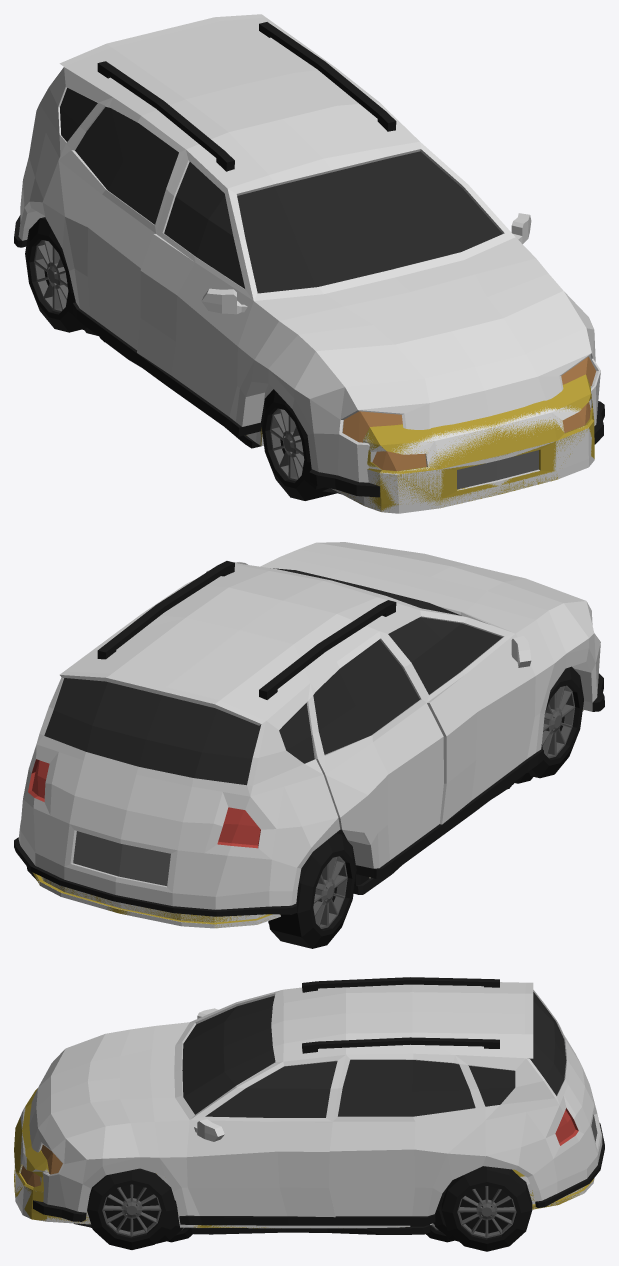
Rendered from quaternius.glb.
The picture shows the model from 3 angles, top to bottom: view 1: azimuth 30°, elevation 25°; view 2: azimuth 150°, elevation 25°; view 3: azimuth 270°, elevation 25°; orthographic projection. The views are drawn at different scales.
Parts seen in each view (by area): view 1: Body (×3), Wheel_FR, Wheel_RR; view 2: Body (×3), Wheel_RR, Wheel_FR; view 3: Body (×4), Wheel_RL, Wheel_FL.
Part boxes in pixels (bbox=[...]): Body (×3): bbox=[14, 14, 604, 513]; Wheel_FR: bbox=[261, 389, 336, 500]; Wheel_RR: bbox=[25, 217, 86, 332]; Body (×3): bbox=[14, 542, 604, 928]; Wheel_RR: bbox=[268, 833, 356, 948]; Wheel_FR: bbox=[528, 666, 583, 778]; Body (×4): bbox=[14, 977, 604, 1234]; Wheel_RL: bbox=[441, 1166, 532, 1251]; Wheel_FL: bbox=[87, 1168, 177, 1249].
Size of the model in its own units: 2.11 by 1.53 by 4.27.
